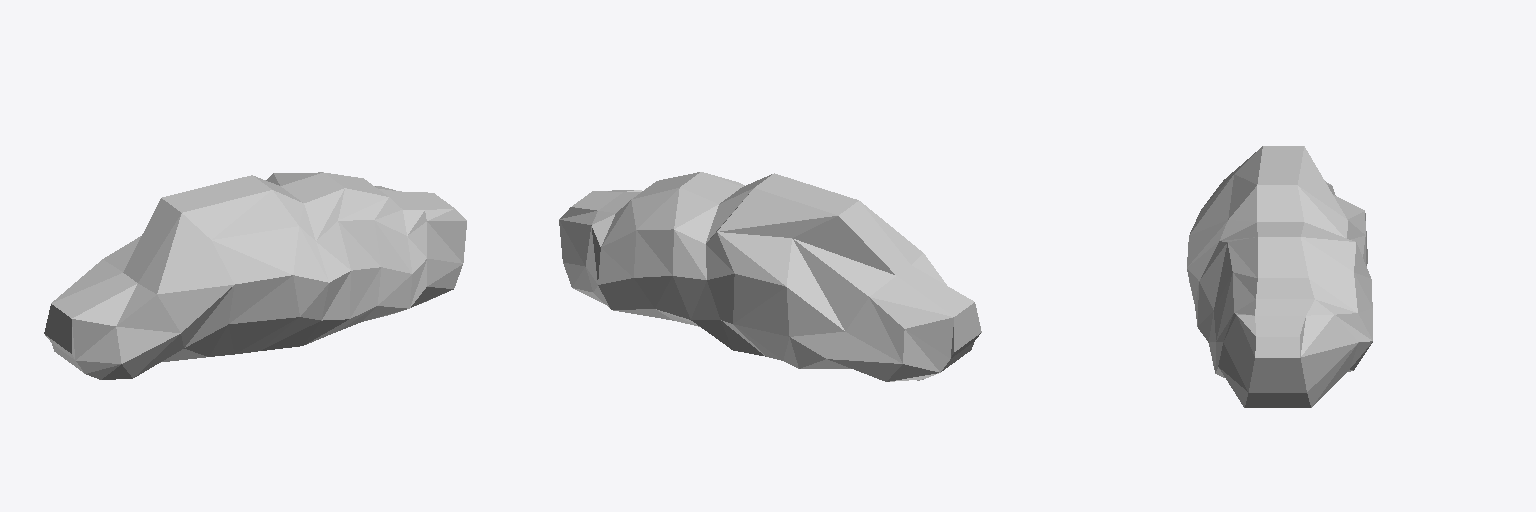
Rendered from buisson_gros.obj.
3 renders of one model, left to right at view 1: azimuth 30°, elevation 25°; view 2: azimuth 150°, elevation 25°; view 3: azimuth 270°, elevation 25°, orthographic.
Visible parts, largest first — view 1: Bushes:big; view 2: Bushes:big; view 3: Bushes:big.
Part boxes in pixels (x1,y1,x2,y2): Bushes:big: (44, 172, 466, 379); Bushes:big: (559, 172, 981, 381); Bushes:big: (1187, 146, 1372, 407).
Bounding box in the file's own units: 8.86 × 3.12 × 3.6.